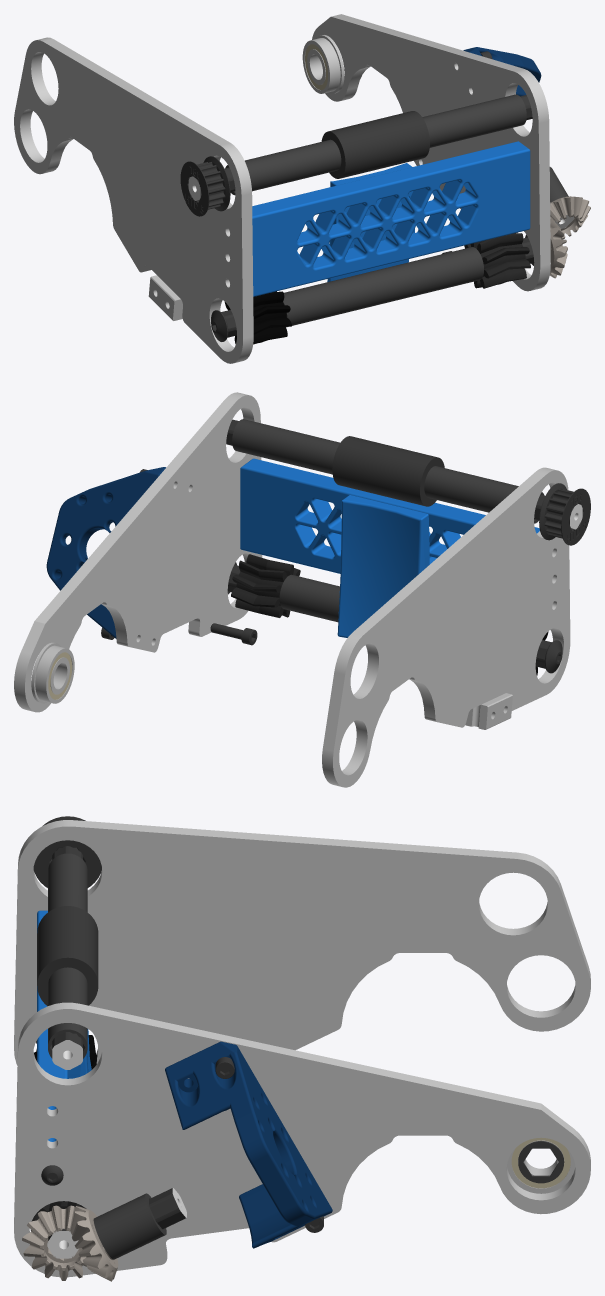
3 views of the same model, one above another, from view 1: azimuth 30°, elevation 25°; view 2: azimuth 150°, elevation 25°; view 3: azimuth 270°, elevation 25° (orthographic). The views are drawn at different scales.
Visible parts, largest first — view 1: Part 19, Part 34, Part 11, 1/2" Hex Bore Custom Spacer (0.7" OD,4.663" L), 1/2" Hex Bore Custom Spacer (0.65" OD,2.394" L) (×2), Sushi Roller (60A, 1/2" Hex Bore) (×2), Helical 2.54M 9T (×2), 16t Custom HTD 5mm Pulley (0.394" Wide, 1/2" Hex Bore w/ TTB, 1/2" Rounded Hex (13.75mm) ID Bearing (1.125" OD, 0.313" WD,, WCP-2140 Rev1 (×2), Nut Strip (1/2" Square ,1" , #10-32 Tapped, Alternating .5" , Part 1 (+1 smaller); view 2: Part 19, Part 11, Part 34, 1/2" Hex Bore Custom Spacer (0.65" OD,2.394" L) (×2), Part 1, Sushi Roller (60A, 1/2" Hex Bore) (×2), Helical 2.54M 9T, 16t Custom HTD 5mm Pulley (0.394" Wide, 1/2" Hex Bore w/ TTB, 1/2" Rounded Hex (13.75mm) ID Bearing (1.125" OD, 0.313" WD,, 1/2" Hex Bore Custom Spacer (0.7" OD,4.663" L), Nut Strip (1/2" Square ,1" , #10-32 Tapped, Alternating .5" , 1/2" Rounded Hex (7.994" L, 13.75mm OD) (+1 smaller); view 3: Part 19, Part 11, Part 1, Sushi Roller (60A, 1/2" Hex Bore) (×2), WCP-2140 Rev1 (×2), 1/2" Hex Bore Custom Spacer (0.65" OD,2.394" L) (×2), 1/2" Hex Bore Custom Spacer (0.75" OD,0.95" L), 1/2" Rounded Hex (13.75mm) ID Bearing (1.125" OD, 0.313" WD,, 16t Custom HTD 5mm Pulley (0.394" Wide, 1/2" Hex Bore w/ TTB, Part 34, 1/2" Rounded Hex (7.994" L, 13.75mm OD), 1/2" Rounded Hex (1.638" L, 13.75mm OD) (+2 smaller).
Boxes of the visible parts, box(x1,y1,x2,y2) form: Part 19: box(14, 37, 253, 363); Part 34: box(252, 141, 530, 296); Part 11: box(312, 14, 550, 291); 1/2" Hex Bore Custom Spacer (0.7" OD,4.663" L): box(283, 247, 483, 327); 1/2" Hex Bore Custom Spacer (0.65" OD,2.394" L) (×2): box(225, 94, 526, 195); Sushi Roller (60A, 1/2" Hex Bore) (×2): box(321, 111, 429, 178); Helical 2.54M 9T (×2): box(224, 233, 530, 344); 16t Custom HTD 5mm Pulley (0.394" Wide, 1/2" Hex Bore w/ TTB: box(180, 156, 230, 216); 1/2" Rounded Hex (13.75mm) ID Bearing (1.125" OD, 0.313" WD,: box(302, 35, 344, 93); WCP-2140 Rev1 (×2): box(549, 196, 590, 278); Nut Strip (1/2" Square ,1" , #10-32 Tapped, Alternating .5" : box(148, 275, 182, 320); Part 1: box(463, 47, 541, 96); Part 19: box(322, 467, 570, 787); Part 11: box(14, 392, 262, 712); Part 34: box(240, 458, 539, 637); 1/2" Hex Bore Custom Spacer (0.65" OD,2.394" L) (×2): box(232, 419, 544, 523); Part 1: box(46, 467, 165, 638); Sushi Roller (60A, 1/2" Hex Bore) (×2): box(332, 436, 444, 506); Helical 2.54M 9T: box(231, 554, 300, 617); 16t Custom HTD 5mm Pulley (0.394" Wide, 1/2" Hex Bore w/ TTB: box(539, 483, 590, 545); 1/2" Rounded Hex (13.75mm) ID Bearing (1.125" OD, 0.313" WD,: box(31, 642, 74, 703); 1/2" Hex Bore Custom Spacer (0.7" OD,4.663" L): box(279, 574, 339, 622); Nut Strip (1/2" Square ,1" , #10-32 Tapped, Alternating .5" : box(465, 693, 512, 729); 1/2" Rounded Hex (7.994" L, 13.75mm OD): box(226, 419, 582, 529); Part 19: box(14, 820, 590, 1065); Part 11: box(14, 1002, 590, 1277); Part 1: box(165, 1041, 332, 1248); Sushi Roller (60A, 1/2" Hex Bore) (×2): box(37, 906, 98, 1006); WCP-2140 Rev1 (×2): box(22, 1205, 118, 1281); 1/2" Hex Bore Custom Spacer (0.65" OD,2.394" L) (×2): box(48, 853, 87, 1058); 1/2" Hex Bore Custom Spacer (0.75" OD,0.95" L): box(93, 1193, 166, 1259); 1/2" Rounded Hex (13.75mm) ID Bearing (1.125" OD, 0.313" WD,: box(507, 1137, 575, 1193); 16t Custom HTD 5mm Pulley (0.394" Wide, 1/2" Hex Bore w/ TTB: box(33, 816, 101, 887); Part 34: box(37, 910, 91, 1141); 1/2" Rounded Hex (7.994" L, 13.75mm OD): box(52, 846, 82, 1069); 1/2" Rounded Hex (1.638" L, 13.75mm OD): box(149, 1188, 186, 1229).
Size of the model in its own units: 0.2523 by 0.1226 by 0.2388.
